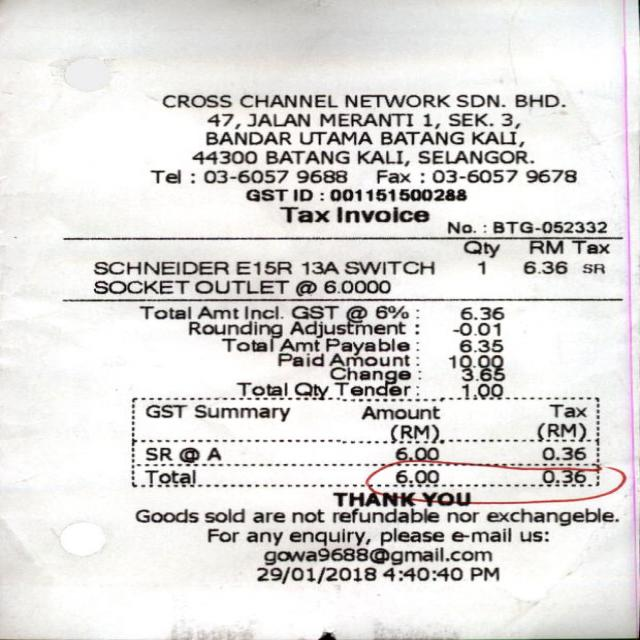text: (263, 546, 492, 564), (485, 508, 618, 525), (289, 320, 406, 337), (253, 567, 375, 583), (91, 260, 226, 274), (329, 188, 466, 201), (184, 320, 282, 337), (192, 404, 288, 421), (418, 150, 533, 164), (334, 205, 428, 222), (323, 336, 410, 354), (332, 508, 438, 522), (491, 220, 605, 233), (91, 279, 188, 294), (289, 528, 369, 546), (343, 94, 448, 107), (193, 278, 289, 292), (328, 367, 410, 383), (331, 491, 413, 507), (319, 112, 412, 126), (236, 94, 336, 107), (342, 260, 433, 274), (205, 130, 290, 144), (432, 168, 517, 182), (203, 168, 288, 182), (265, 150, 349, 164), (332, 381, 410, 396), (380, 130, 463, 144), (328, 352, 410, 366), (380, 528, 443, 546), (380, 566, 460, 580), (359, 404, 438, 418), (298, 130, 371, 144), (323, 278, 389, 292), (190, 150, 255, 164), (449, 527, 508, 542), (246, 112, 308, 126), (133, 508, 195, 522), (137, 304, 191, 320), (233, 379, 287, 395), (534, 422, 583, 439), (277, 205, 328, 221), (233, 260, 291, 274), (161, 95, 231, 106), (445, 354, 503, 367), (524, 168, 577, 182), (220, 338, 273, 352), (389, 424, 438, 439), (294, 168, 346, 182), (354, 149, 402, 164), (420, 490, 471, 504), (289, 304, 339, 318), (144, 468, 194, 482), (461, 240, 498, 258), (470, 130, 517, 144), (455, 338, 502, 352), (277, 352, 324, 366), (391, 468, 438, 482), (513, 94, 563, 107), (445, 112, 491, 126), (458, 366, 504, 380), (454, 94, 503, 107), (143, 403, 185, 418), (450, 322, 498, 335), (523, 260, 567, 274), (458, 306, 502, 320), (540, 468, 584, 482), (391, 446, 438, 459), (460, 382, 502, 396), (571, 239, 610, 254), (242, 304, 283, 318), (279, 336, 320, 350), (541, 446, 585, 459), (526, 239, 564, 254), (547, 402, 586, 416), (246, 188, 287, 201), (298, 260, 336, 274), (198, 304, 236, 318), (204, 508, 242, 522), (293, 381, 326, 397), (150, 167, 182, 183), (246, 530, 282, 544), (372, 304, 407, 318), (289, 508, 323, 522), (376, 170, 410, 183), (208, 528, 238, 542), (469, 566, 498, 580), (144, 446, 172, 460), (205, 112, 232, 126), (250, 511, 283, 522), (293, 280, 315, 296), (345, 304, 367, 320), (447, 511, 478, 522), (447, 221, 474, 233), (176, 447, 197, 462), (518, 530, 546, 540), (293, 188, 312, 201), (204, 446, 220, 460), (582, 262, 604, 272), (475, 259, 487, 275), (499, 112, 511, 126), (421, 112, 431, 127)
